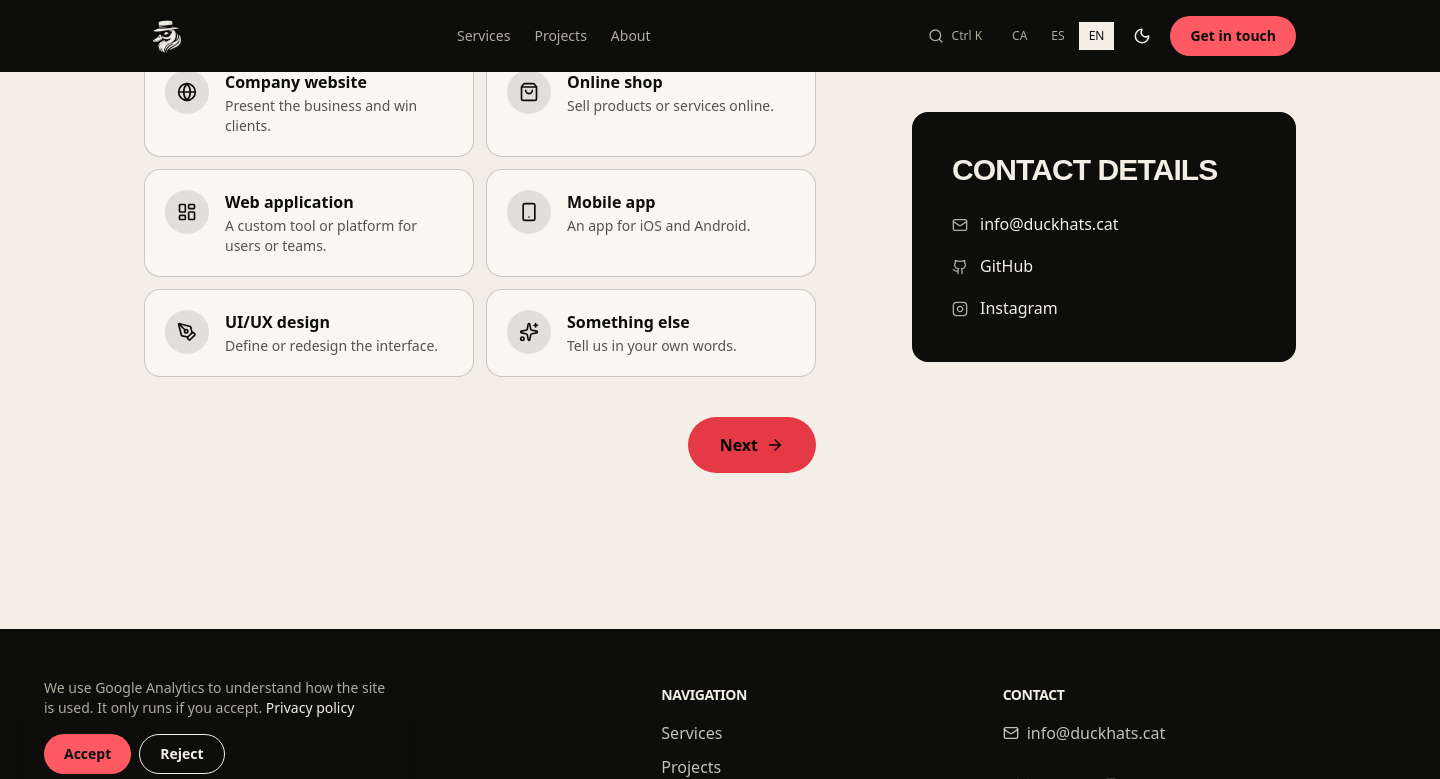
Test case: contact form › opens the project brief on its first question and will not move on unanswered
(page scrolled)
Click the button "Next".
click(752, 445)  # box [688,417,816,473]
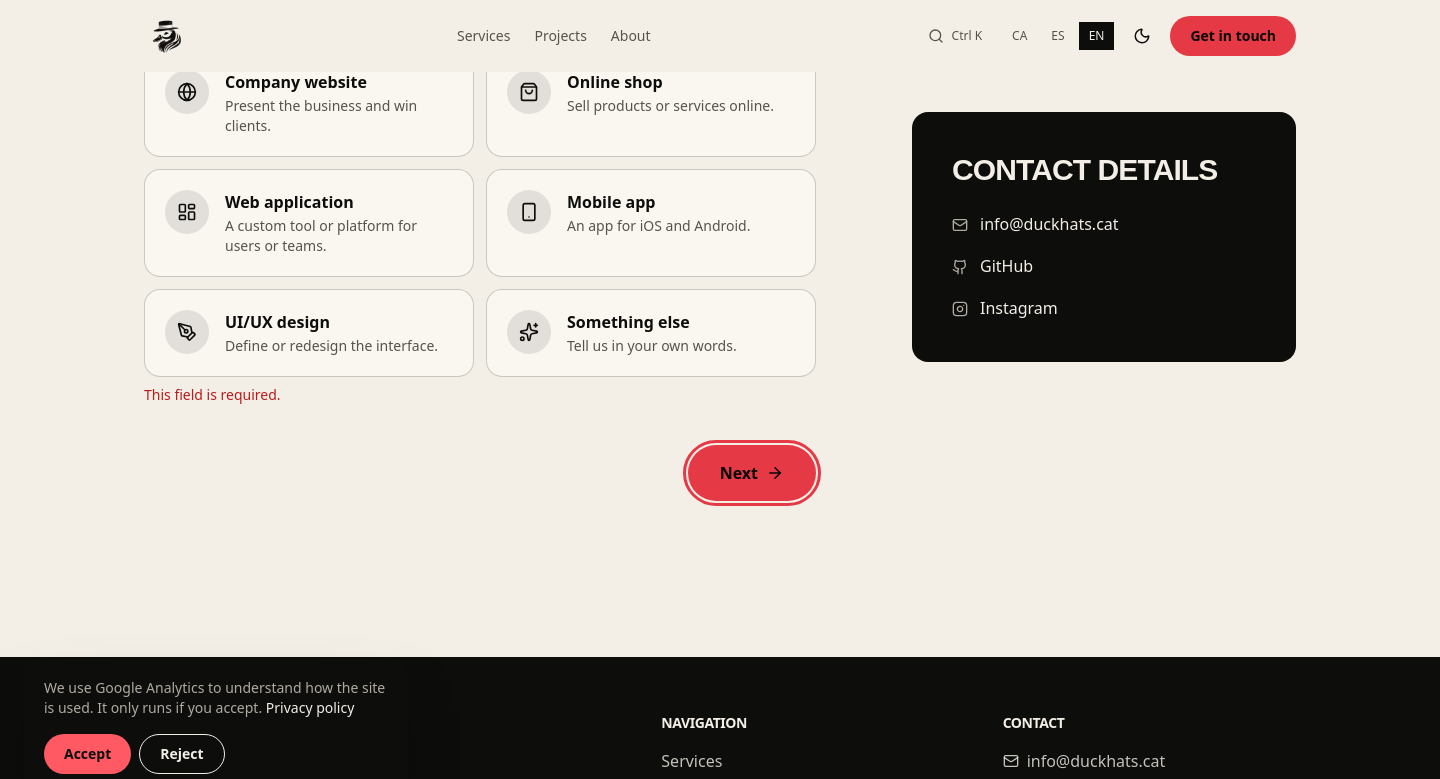
Now the message reads "This field is required.", box [144,385,281,404]
